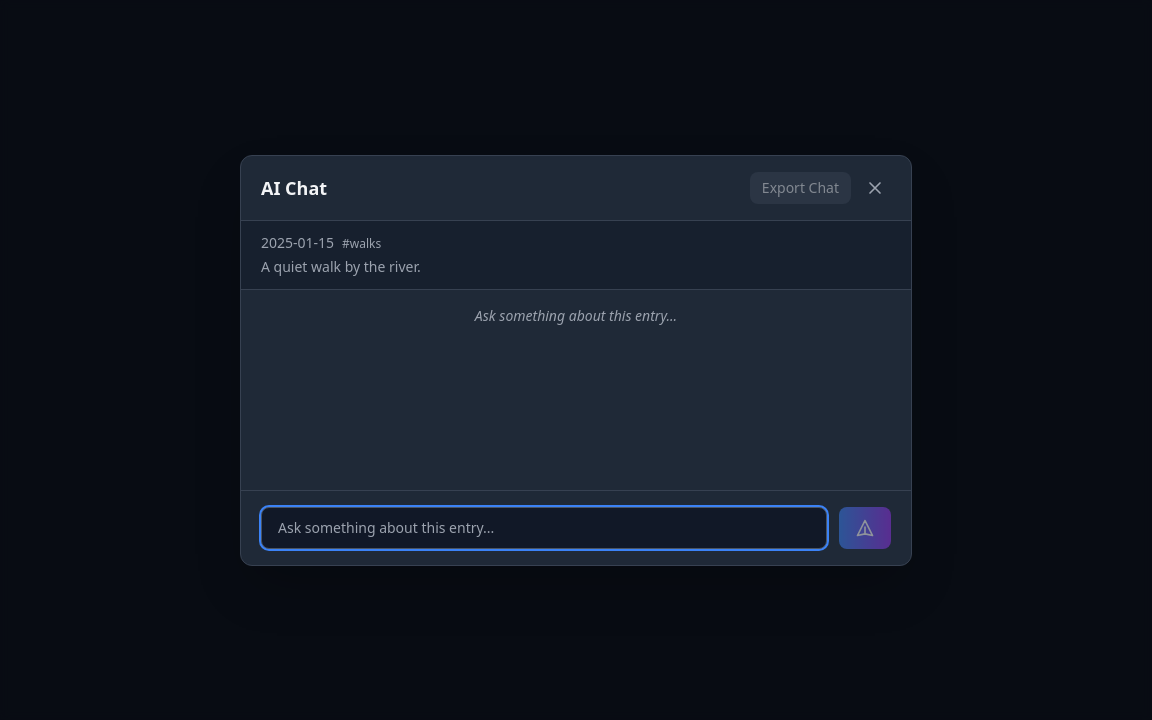
Test: AiChatModal support resources › shows no support card for an ordinary entry and chat
In the text box named "Message to the AI": (544,528) [261, 506, 827, 548], type "What stands out?"
Then press Enter
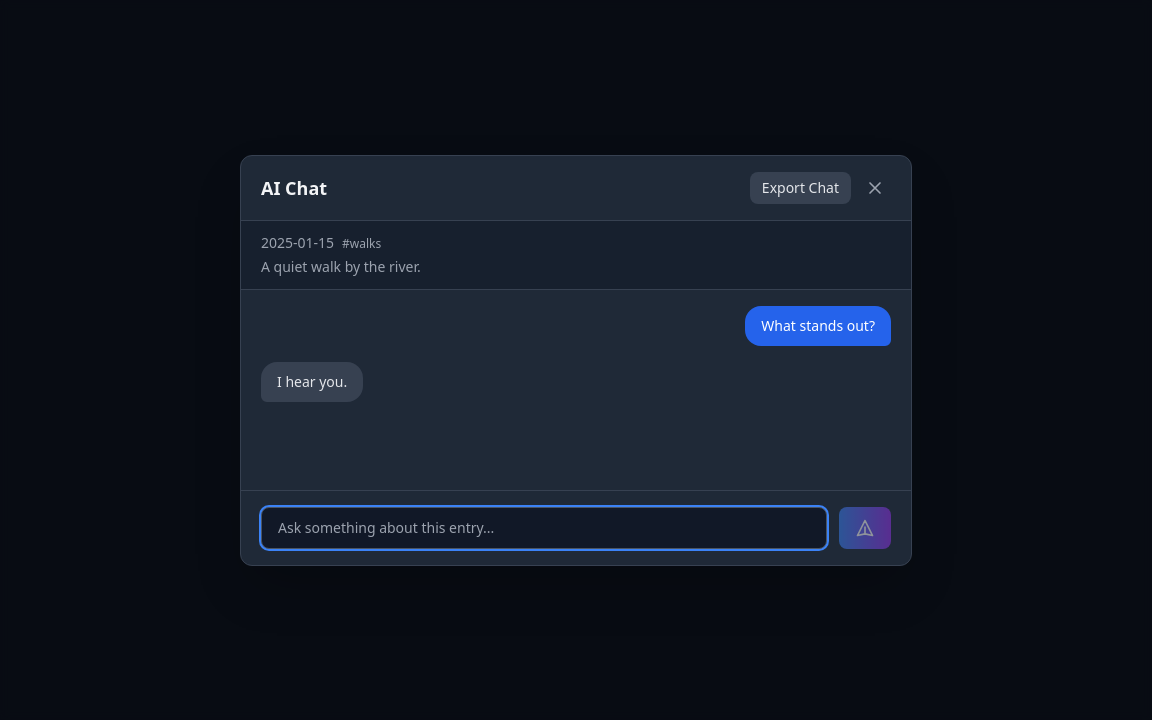
Expected: the text "I hear you." is shown, [277, 372, 347, 390]
